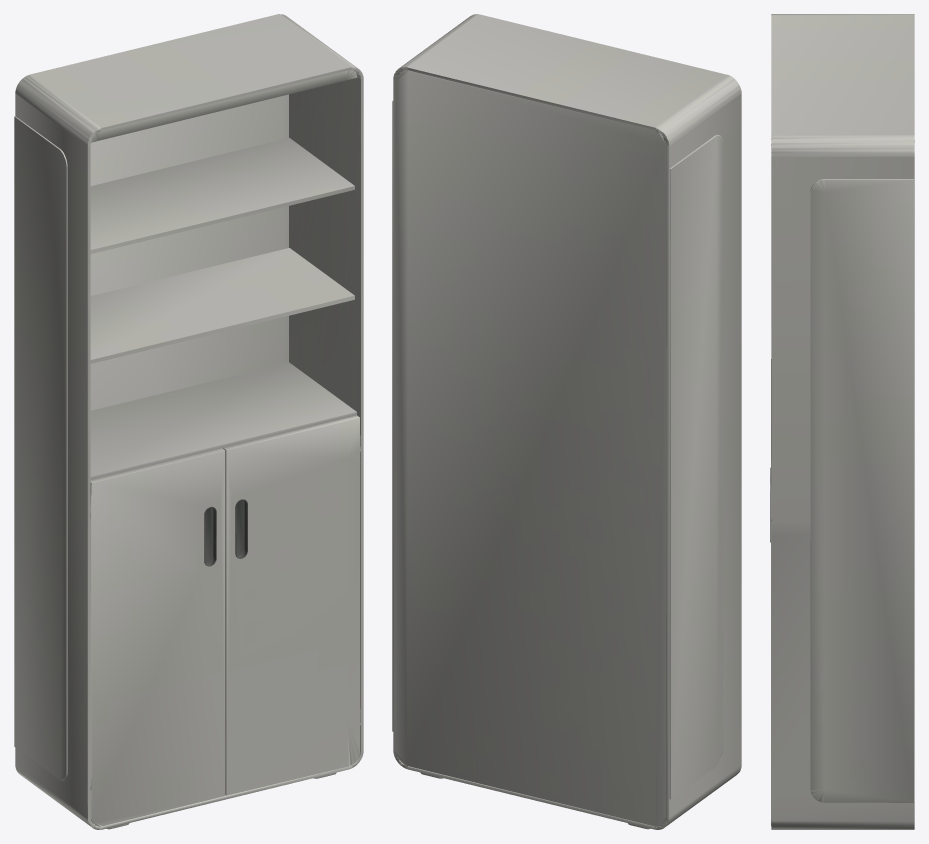
The model's file is simready-cabinet-filing.1f57b0d0.glb.
3 views of the same model, side by side, from view 1: azimuth 30°, elevation 25°; view 2: azimuth 150°, elevation 25°; view 3: azimuth 270°, elevation 25° (orthographic).
Visible parts, largest first — view 1: model; view 2: model; view 3: model.
Part boxes in pixels (x1,y1,x2,y2): model: (14, 14, 363, 829); model: (392, 14, 741, 829); model: (770, 14, 914, 829).
Bounding box in the file's own units: 0.8259 × 2 × 0.3747.
Materials: 3 (3 with a texture image).
